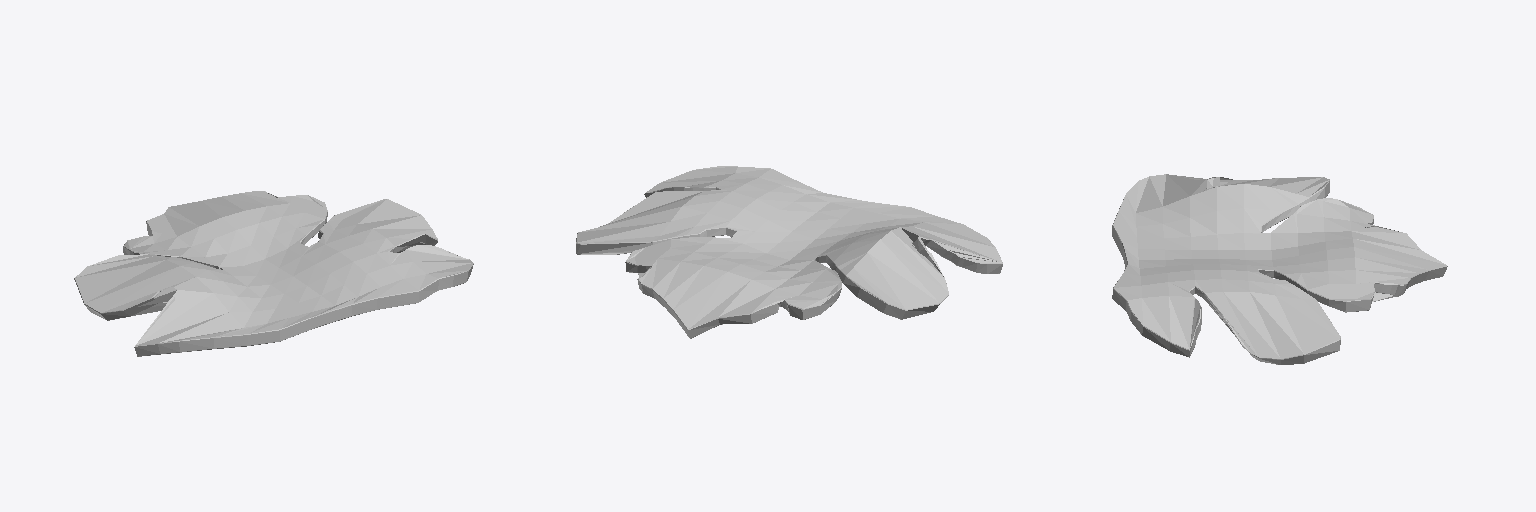
Rendered from MapleLeaf_TigerPrange.obj.
3 views of the same model, side by side, from view 1: azimuth 30°, elevation 25°; view 2: azimuth 150°, elevation 25°; view 3: azimuth 270°, elevation 25° (orthographic).
Visible parts, largest first — view 1: MapleLeaf_TigerOrange; view 2: MapleLeaf_TigerOrange; view 3: MapleLeaf_TigerOrange.
Part boxes in pixels (bbox=[...]): MapleLeaf_TigerOrange: bbox=[74, 191, 473, 356]; MapleLeaf_TigerOrange: bbox=[576, 166, 1002, 338]; MapleLeaf_TigerOrange: bbox=[1112, 174, 1447, 364].
Size of the model in its own units: 8.78 by 1.24 by 7.15.